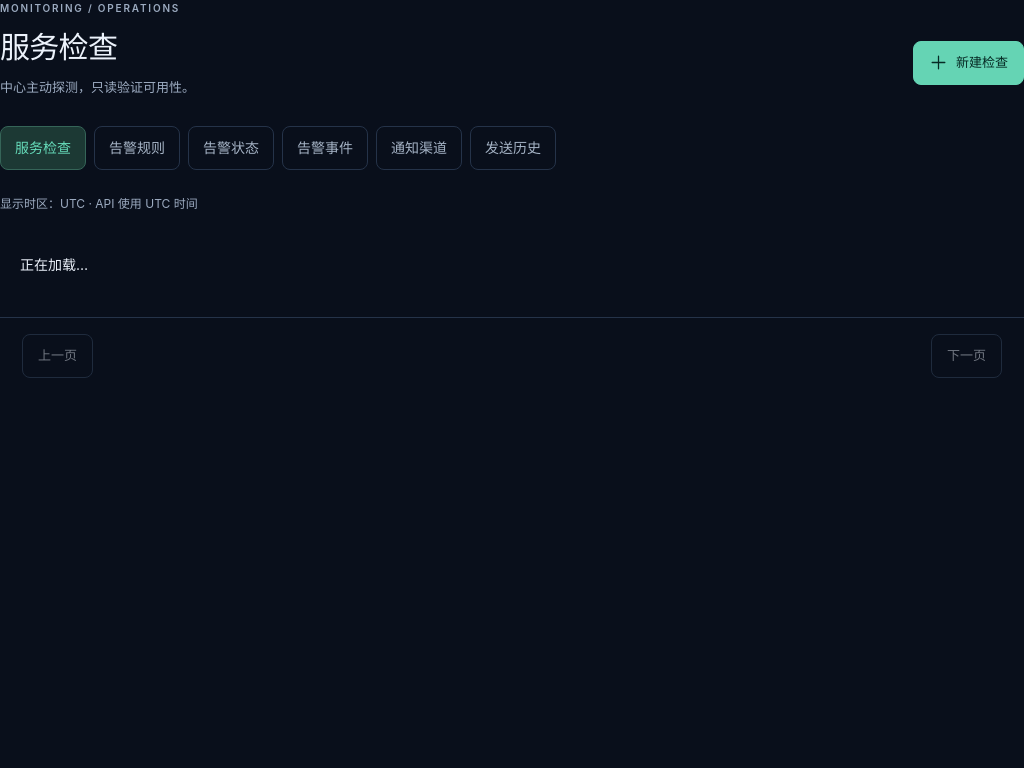
Test case: create check submits validated default limits and csrf
The image size is (1024, 768).
Click the button "新建检查". click: x=968, y=63
box: [913,41,1023,85]
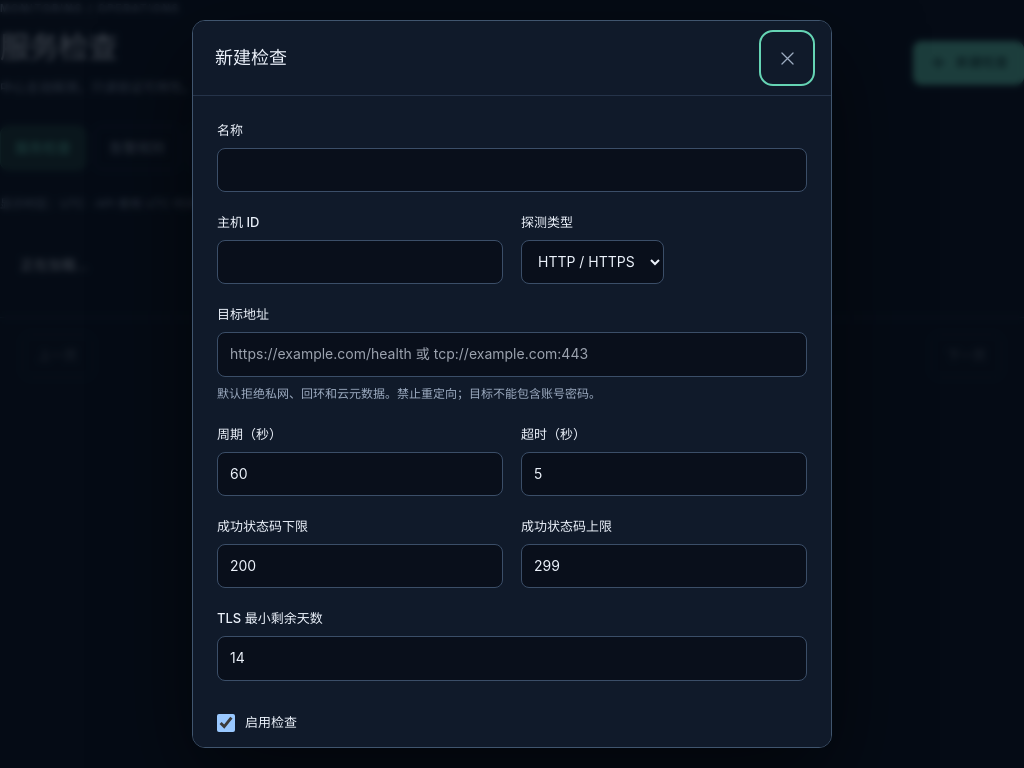
Type "local test config" into the field labelled "名称". click: x=512, y=170
box: [217,148,807,192]
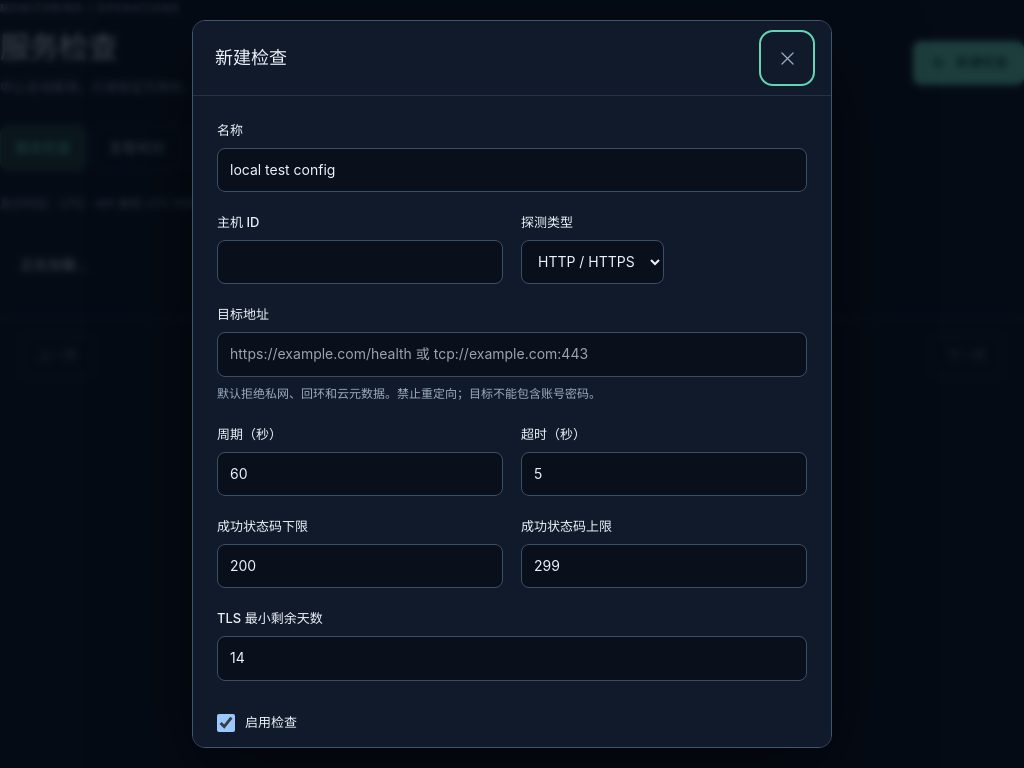
Type "1" into the number field labelled "主机 ID". click: x=360, y=262
box: [217,240,503,284]
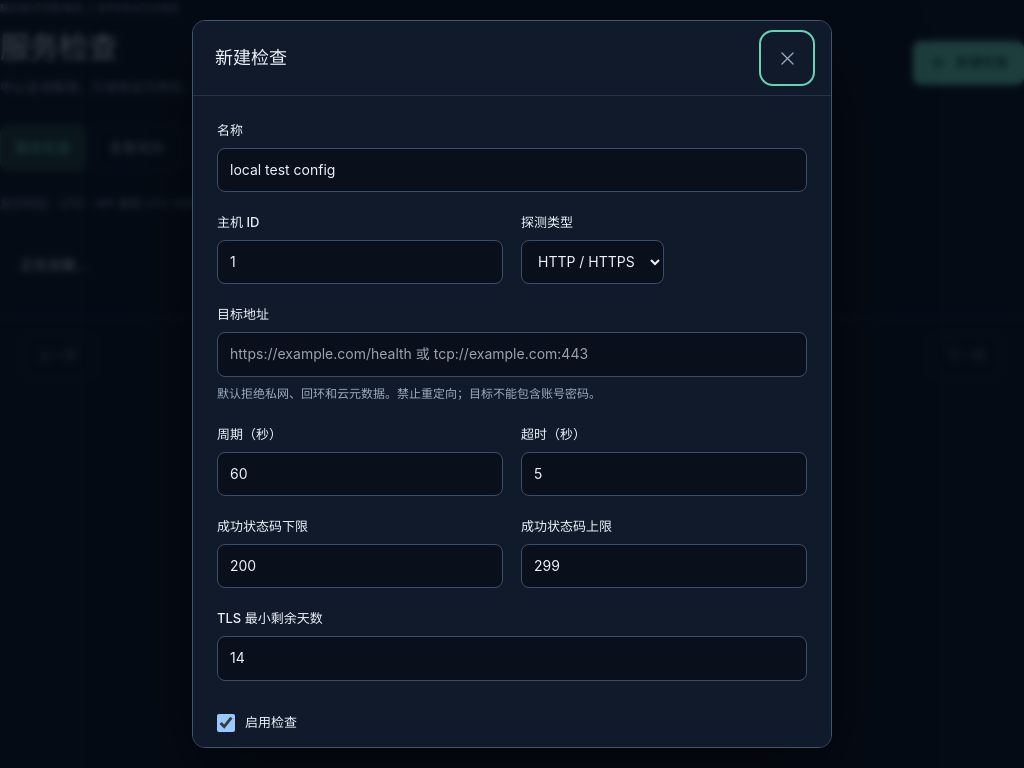
Type "https://example.invalid" into the field labelled "目标地址". click: x=512, y=354
box: [217,332,807,377]
(page scrolled)
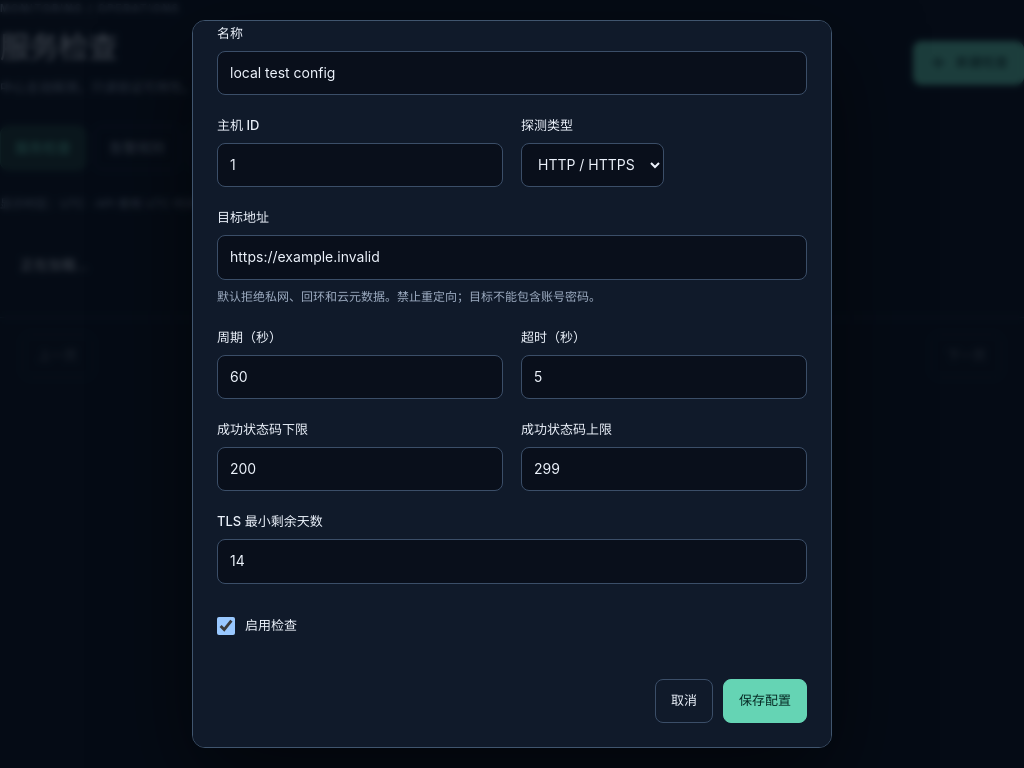
Click the button "保存配置". click: x=765, y=700
box: [723,678,807,722]
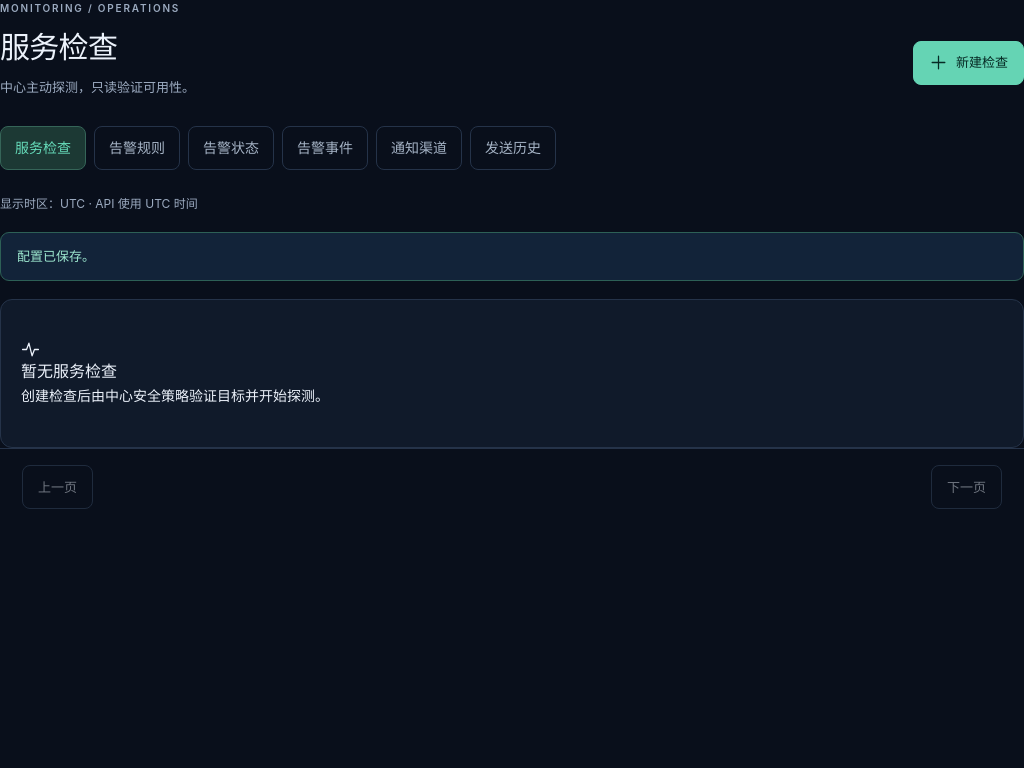
Result: the dialog is gone
